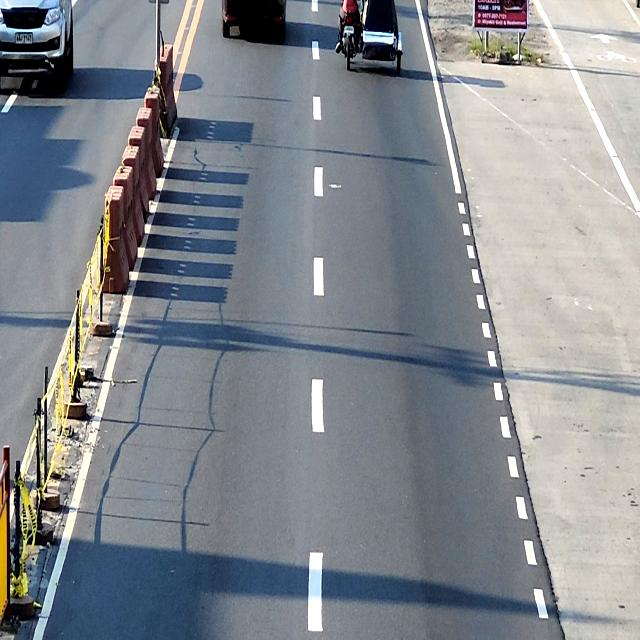Car: (0, 0, 73, 90)
License-Plate: (15, 32, 33, 44), (344, 25, 354, 34)
Tricycle: (340, 0, 402, 73)
